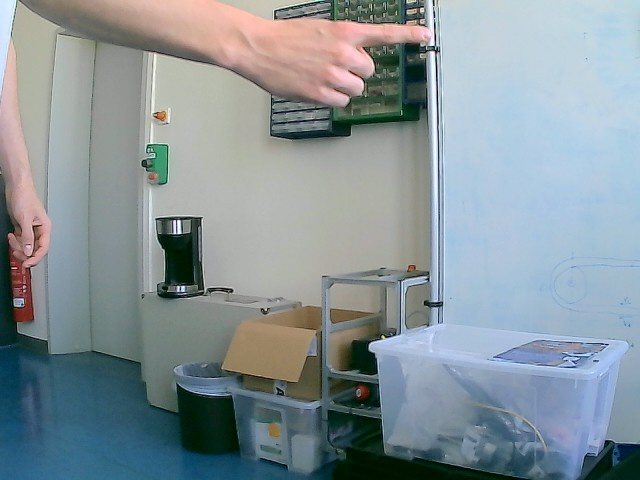left: (238, 16, 433, 110)
